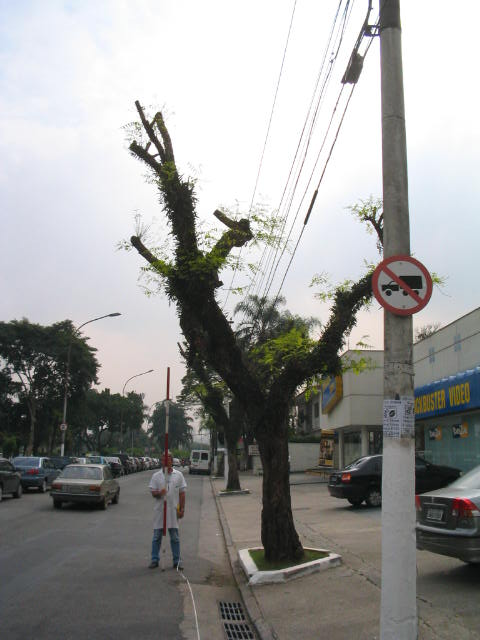crown: (4, 322, 99, 415)
stem: (242, 416, 312, 559)
stick: (153, 366, 179, 572)
tree: (122, 99, 384, 562), (1, 318, 103, 455)
